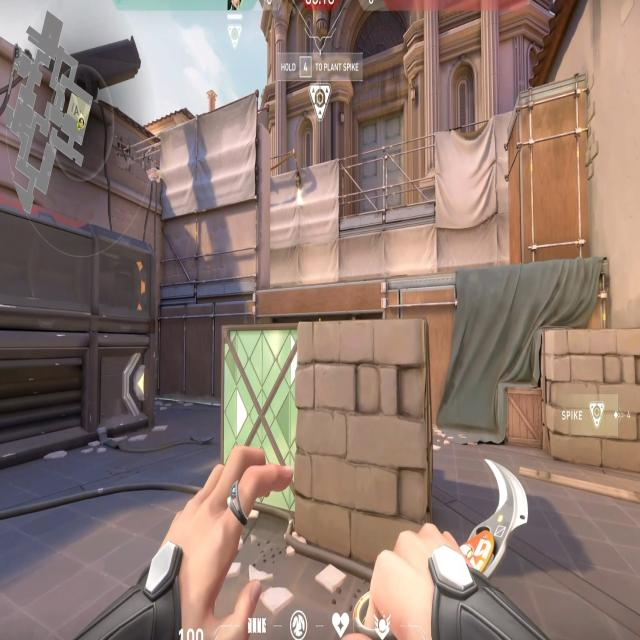A_Heaven_Box: (506, 94, 591, 260)
A_Heaven_Wall: (157, 111, 270, 292)
A_Site_Box: (222, 324, 432, 566)
